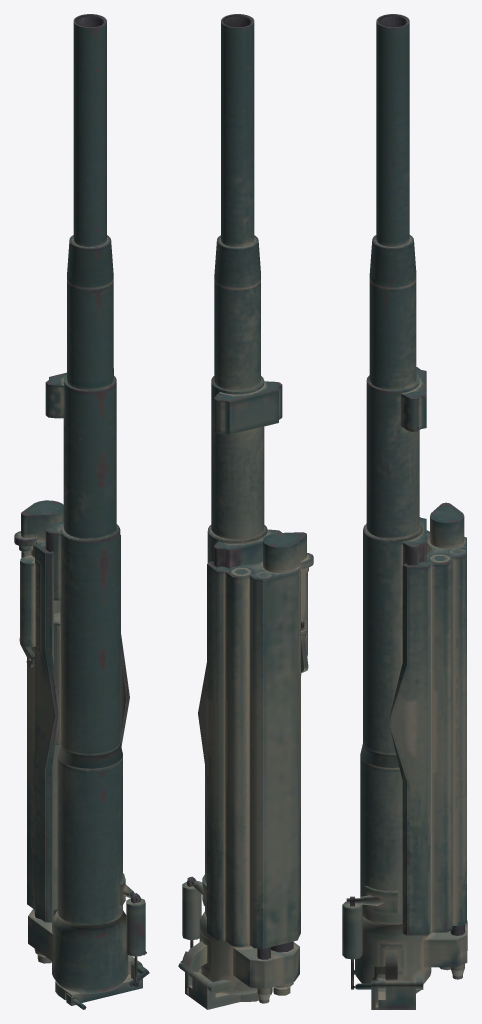
The model's file is Gun_01.glb.
3 views of the same model, side by side, from view 1: azimuth 30°, elevation 25°; view 2: azimuth 210°, elevation 25°; view 3: azimuth 270°, elevation 25° (orthographic).
Parts seen in each view (by area): view 1: set_0_group_0; view 2: set_0_group_0; view 3: set_0_group_0.
Part boxes in pixels (x1,y1,x2,y2): set_0_group_0: (14,14,149,1009); set_0_group_0: (178,14,313,1009); set_0_group_0: (342,14,467,1009).
Size of the model in its own units: 0.652 by 6.09 by 0.7096.
Materials: 1 (1 with a texture image).
